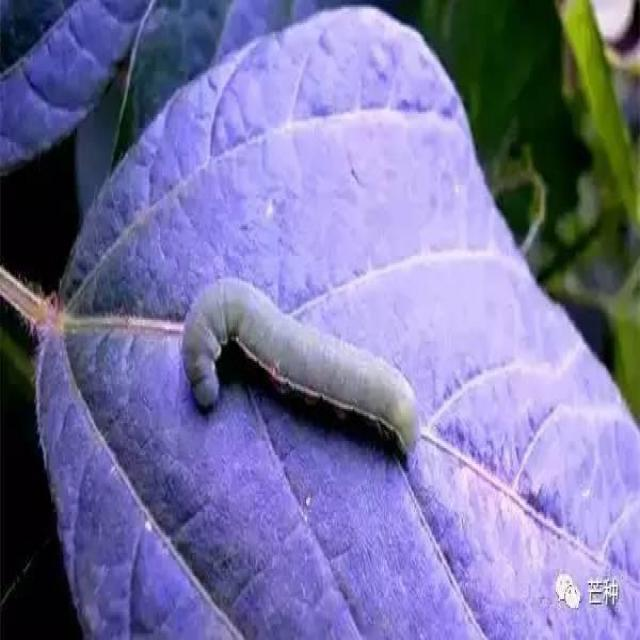BeetArmyWorm-Larva-: (178, 268, 426, 468)
